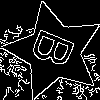B: (29, 26, 85, 75)
